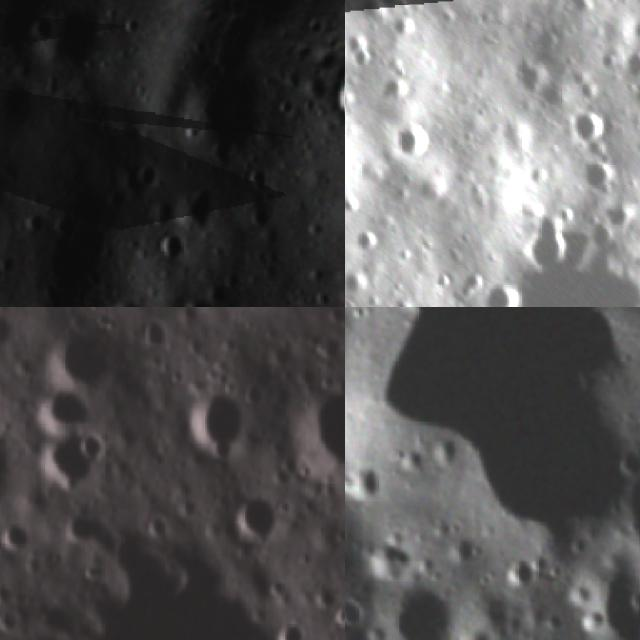crater: (170, 56, 274, 152), (498, 196, 595, 291), (561, 544, 640, 640), (366, 569, 466, 640), (367, 103, 450, 181), (293, 373, 345, 478), (171, 386, 243, 453), (555, 90, 624, 159), (503, 46, 567, 111), (565, 143, 631, 206), (172, 170, 232, 238), (51, 329, 108, 392), (590, 191, 640, 246), (230, 481, 270, 547), (30, 440, 92, 482), (470, 270, 533, 307), (28, 393, 94, 428), (124, 148, 174, 194), (345, 219, 392, 263), (499, 538, 537, 592), (23, 8, 65, 50), (345, 460, 387, 502), (154, 223, 192, 260), (345, 265, 377, 306), (351, 0, 417, 16), (230, 377, 267, 405), (136, 316, 166, 350), (306, 578, 336, 609), (327, 80, 345, 131), (0, 520, 28, 552), (317, 307, 345, 337), (66, 514, 99, 539), (77, 432, 106, 455), (272, 618, 301, 640), (40, 548, 62, 568), (0, 311, 11, 347), (263, 577, 285, 595), (0, 610, 17, 633), (334, 603, 345, 632), (274, 491, 285, 516), (0, 581, 13, 602)
